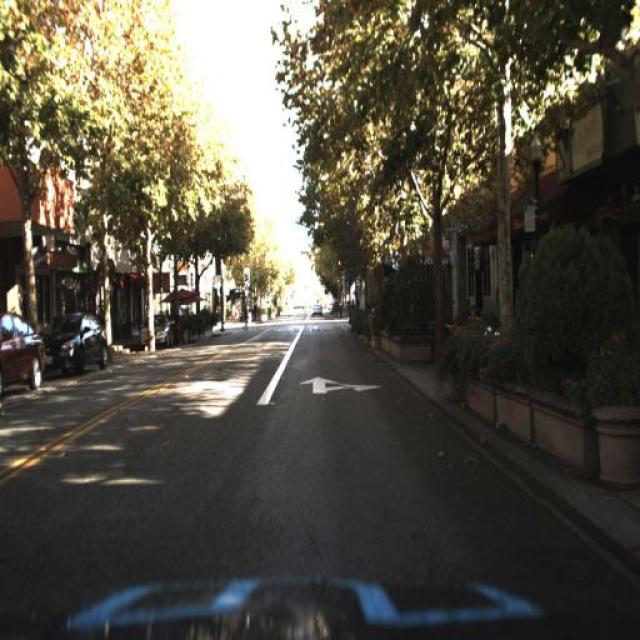car: (40, 310, 111, 374), (0, 307, 48, 399), (139, 311, 175, 349), (140, 310, 174, 341)
trafficLight: (242, 297, 252, 335)
trafficLight-RedLeft: (334, 245, 344, 283)
